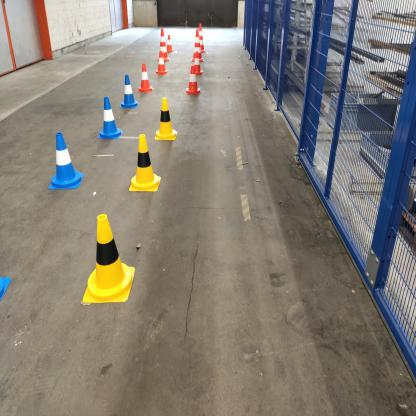Cones_small_blue: (39, 124, 88, 198), (91, 97, 125, 147), (115, 74, 146, 119), (184, 62, 202, 98), (150, 52, 172, 79)
Cones_small_yellow: (78, 205, 137, 324), (129, 128, 163, 205), (151, 96, 190, 161)
